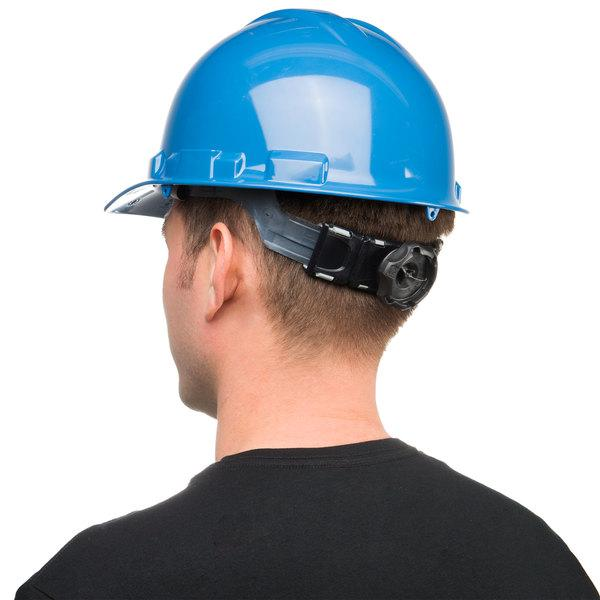helmet: (100, 7, 470, 220)
